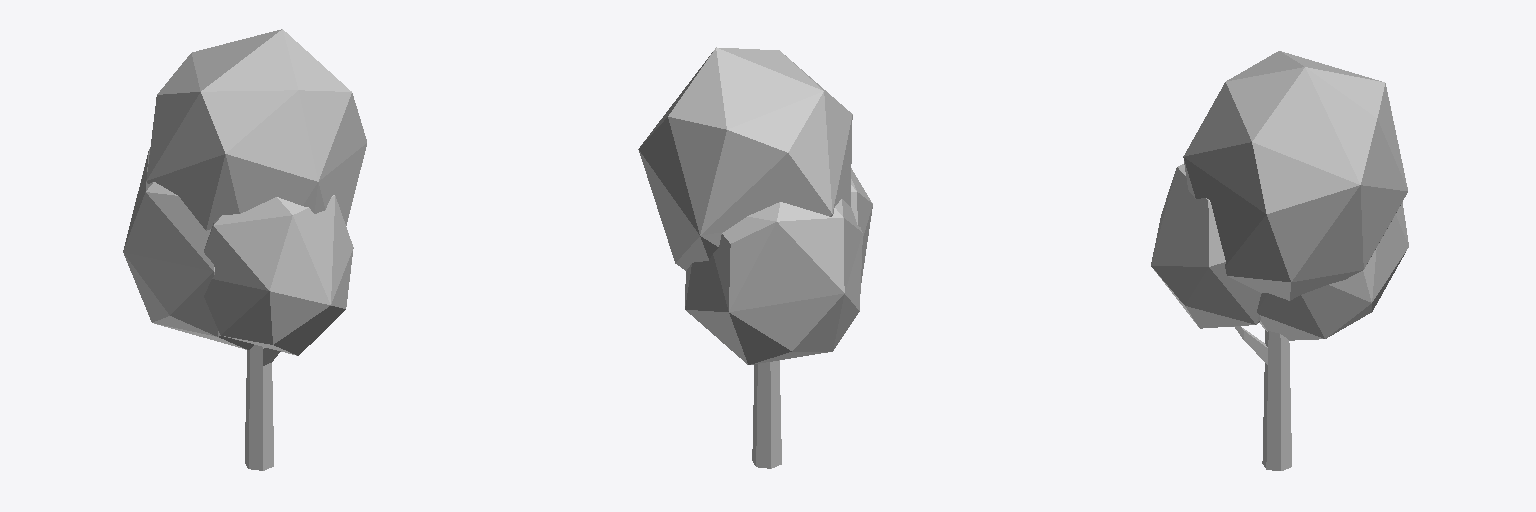
The model's file is tree4.obj.
The picture shows the model from 3 angles: view 1: azimuth 30°, elevation 25°; view 2: azimuth 150°, elevation 25°; view 3: azimuth 270°, elevation 25°; orthographic projection.
Visible parts, largest first — view 1: Icosphere.003_Icosphere.018, Cylinder.004_Cylinder.011; view 2: Icosphere.003_Icosphere.018, Cylinder.004_Cylinder.011; view 3: Icosphere.003_Icosphere.018, Cylinder.004_Cylinder.011.
Boxes of the visible parts, box(x1,y1,x2,y2) form: Icosphere.003_Icosphere.018: box(123, 29, 366, 355); Cylinder.004_Cylinder.011: box(245, 345, 280, 470); Icosphere.003_Icosphere.018: box(638, 47, 872, 364); Cylinder.004_Cylinder.011: box(752, 360, 781, 468); Icosphere.003_Icosphere.018: box(1151, 51, 1408, 340); Cylinder.004_Cylinder.011: box(1234, 326, 1291, 470).
Size of the model in its own units: 7.69 by 14.6 by 8.21.